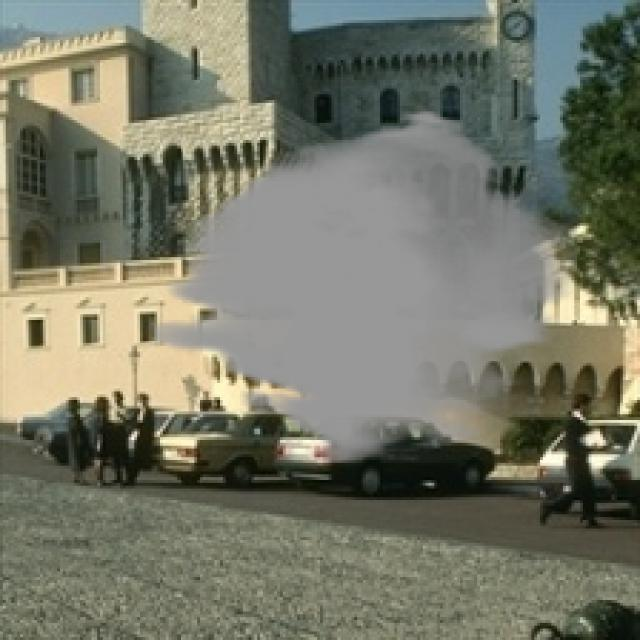smoke: (154, 108, 577, 466)
